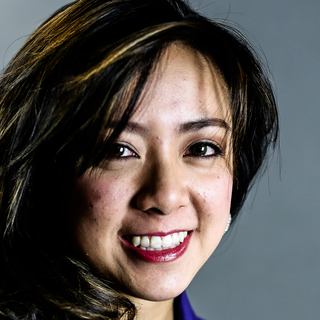eye: (88, 135, 142, 164), (175, 136, 230, 162)
